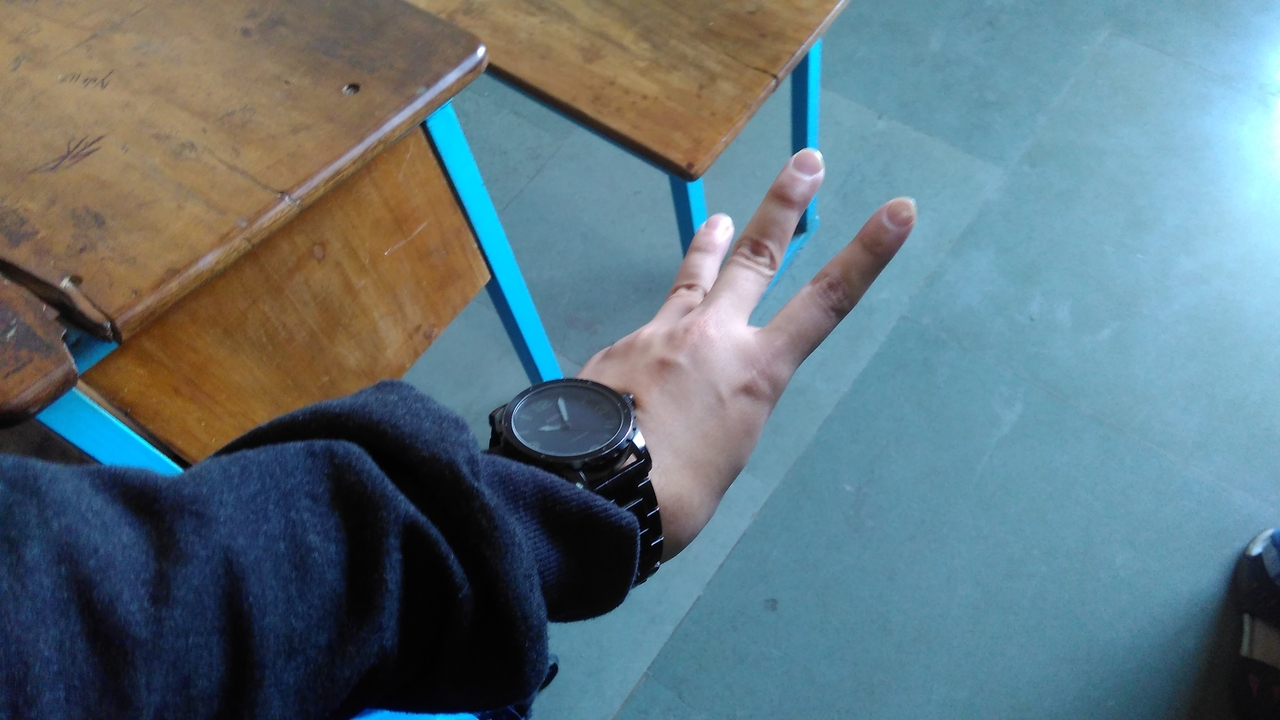fingertip: (682, 194, 744, 256), (864, 182, 930, 238), (774, 138, 836, 190)
